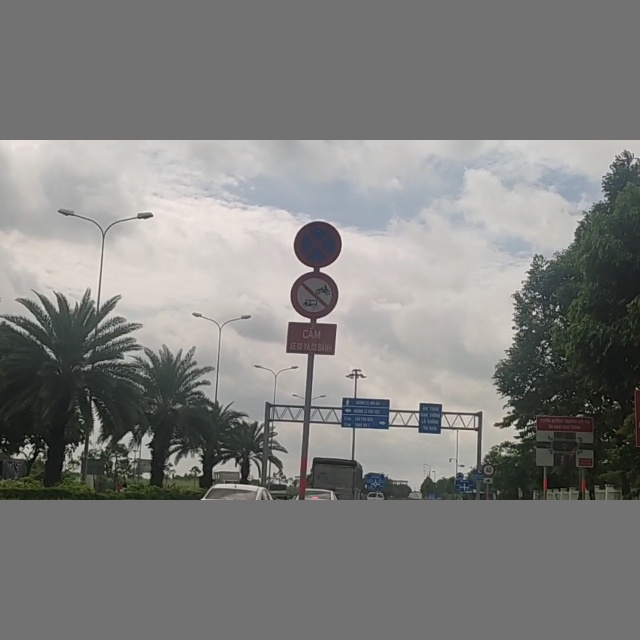P.111: (291, 270, 339, 319)
P.130: (292, 220, 343, 270)
